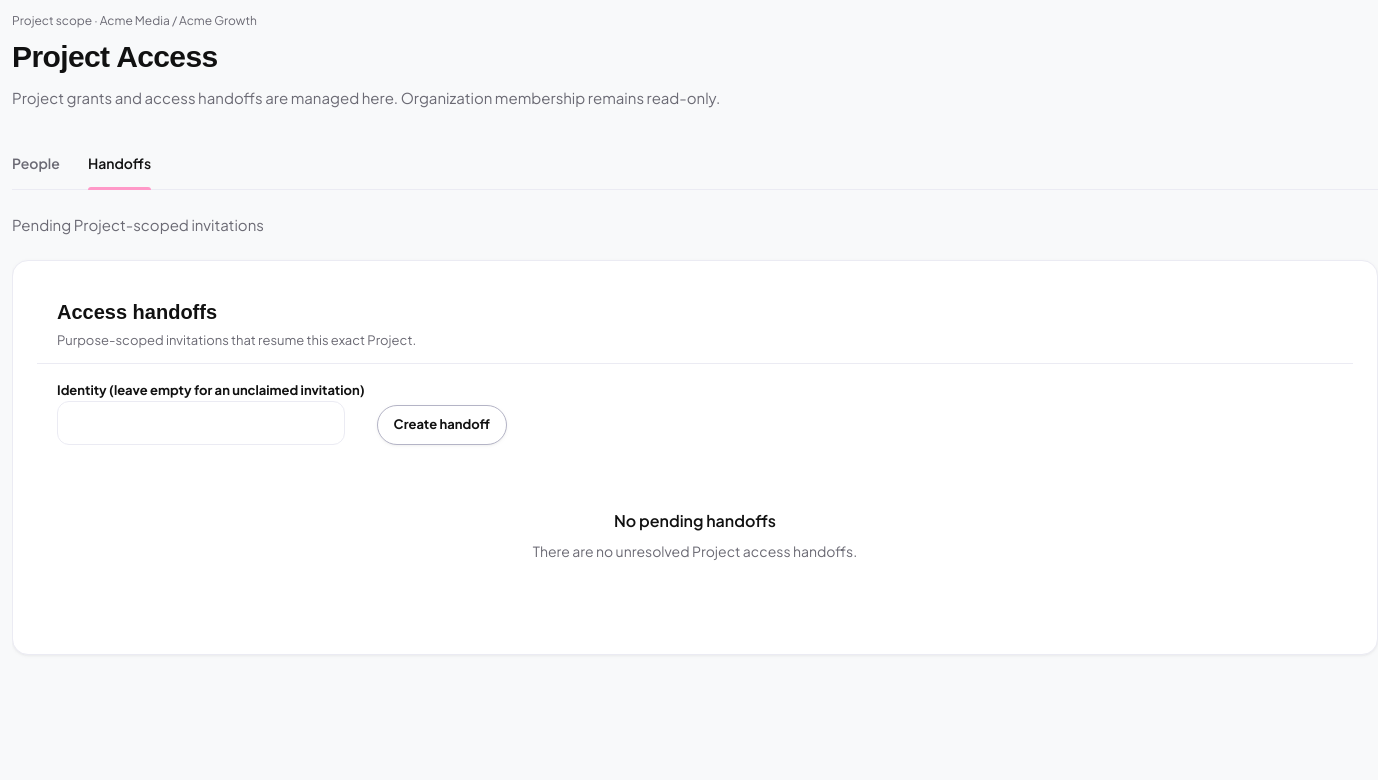
Scenario: Project Access — handoffs › reports a refused handoff instead of claiming one exists
The image size is (1378, 780).
Step 1. Click the button "Create handoff" → (442, 424), box [377, 404, 507, 444]
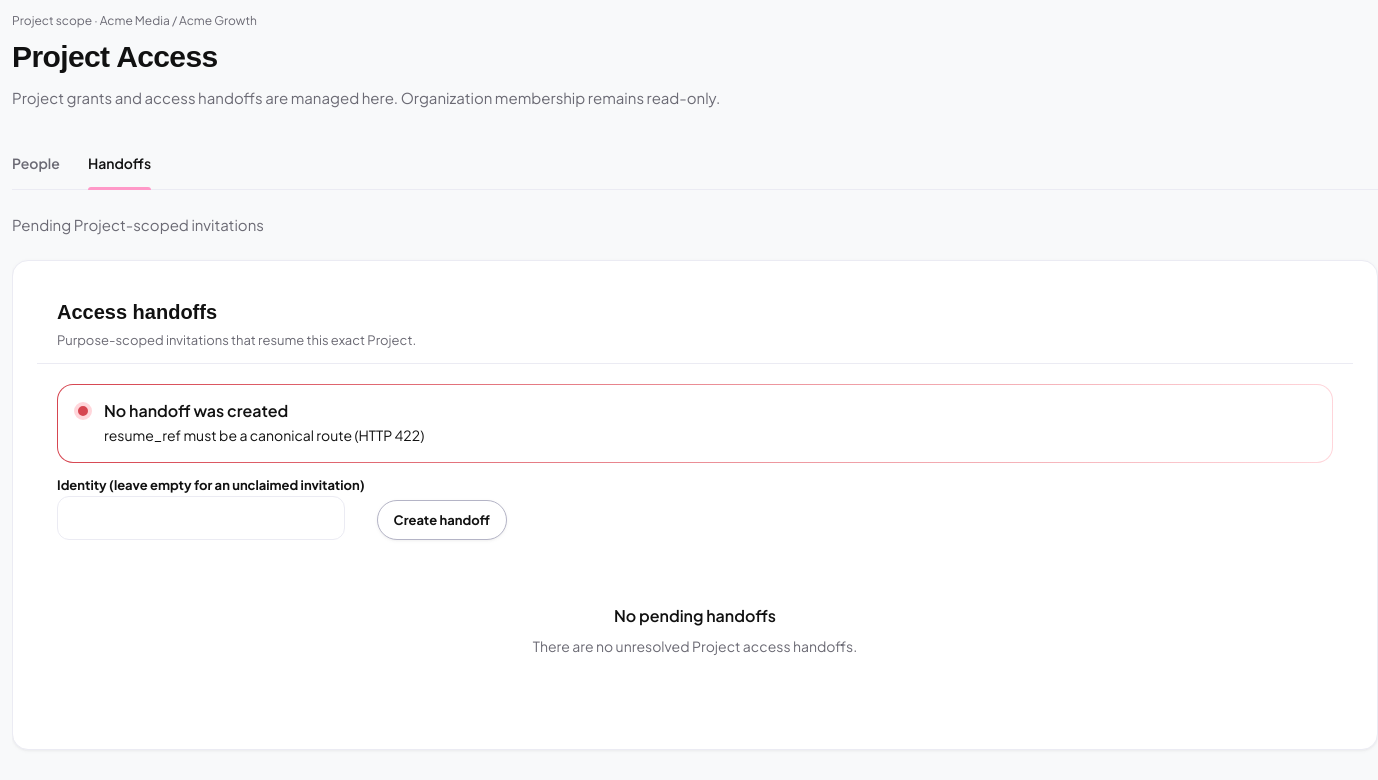
expect the text "No pending handoffs" is shown: met, box [614, 604, 776, 628]
expect the text "No handoff was created" is shown: met, box [104, 400, 288, 420]
expect the text "resume_ref must be a canonical route (HTTP 422)" is shown: met, box [104, 426, 424, 444]
